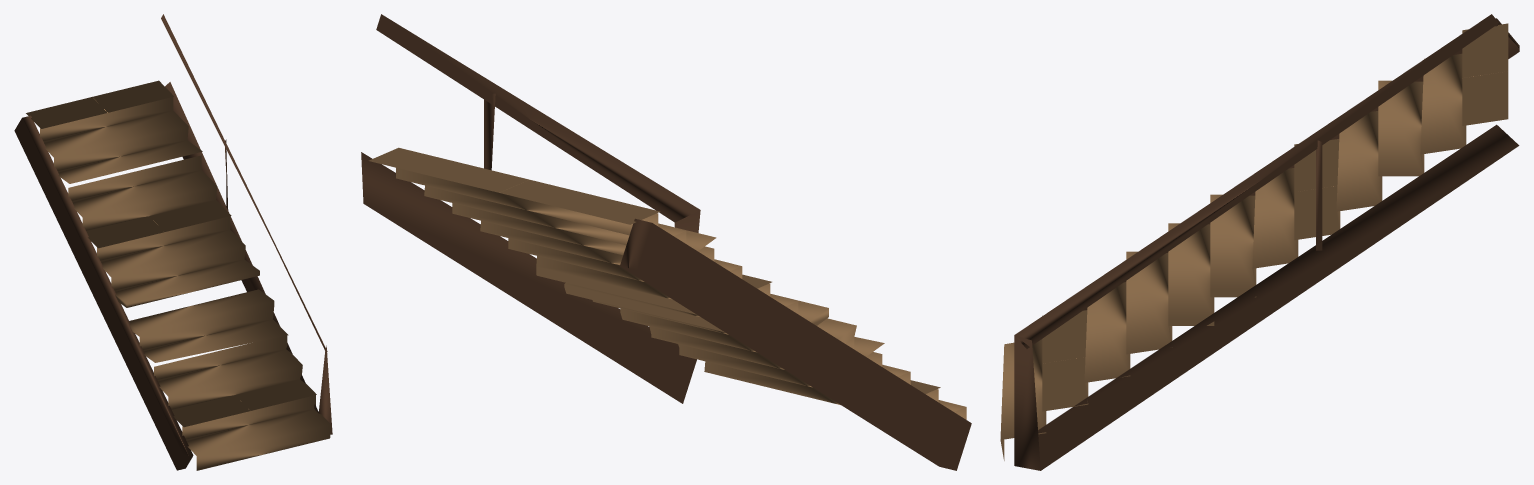
File: stairs_wood_lod1.glb
3 views of the same model, side by side, from view 1: azimuth 30°, elevation 25°; view 2: azimuth 150°, elevation 25°; view 3: azimuth 270°, elevation 25° (orthographic). The views are drawn at different scales.
Bounding box in the file's own units: 2 × 4 × 4.12.
